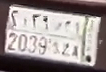0: (18, 10, 28, 54)
2: (6, 1, 18, 53)
3: (28, 9, 40, 54)
9: (38, 11, 50, 56)
A: (72, 20, 83, 59)
Z: (61, 19, 73, 57)
